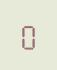zero: (19, 20, 36, 49)
